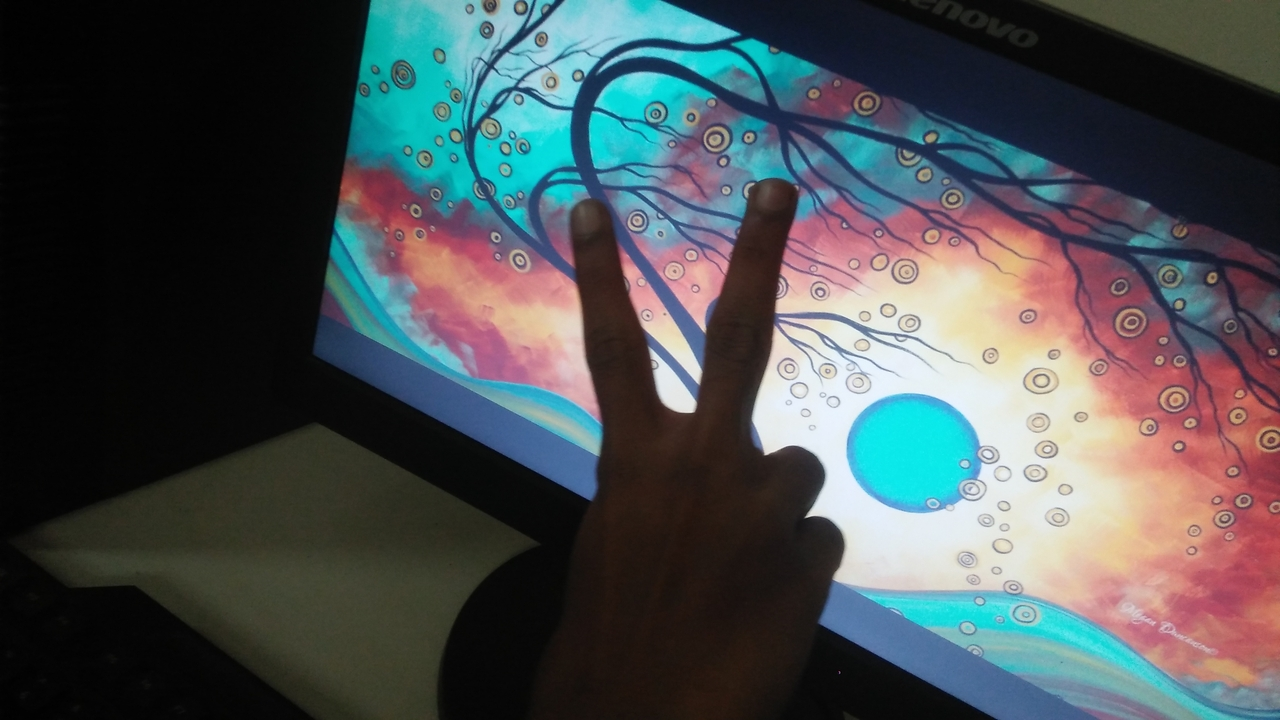fingertip: (738, 170, 804, 228), (558, 196, 616, 248)
